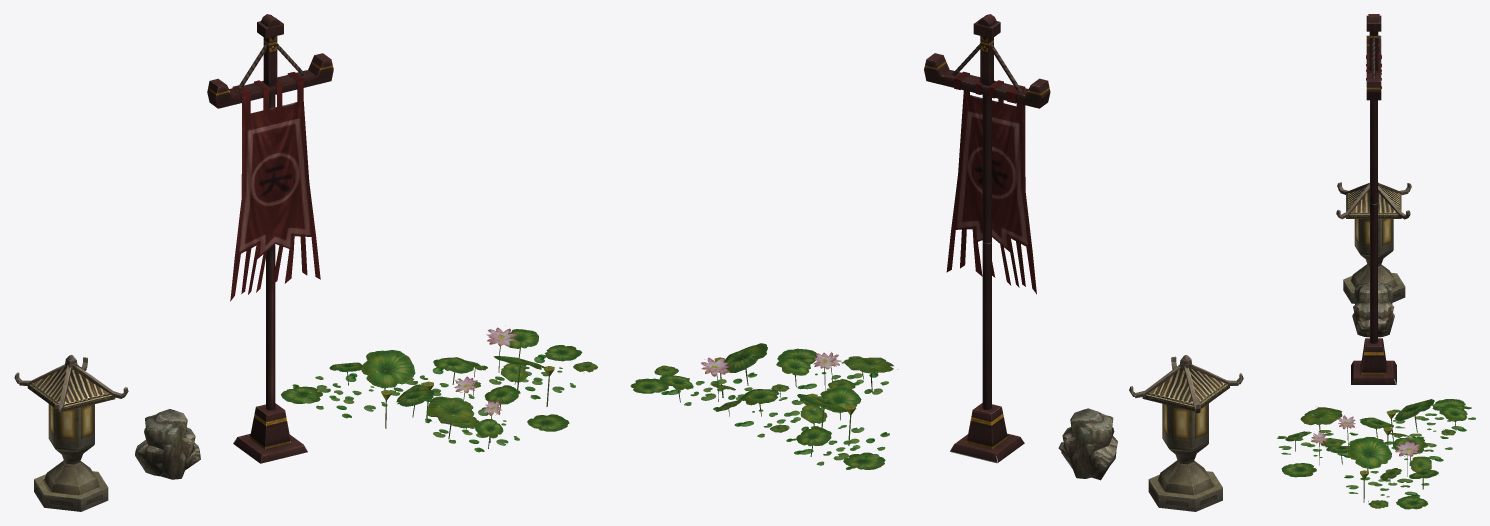
File: s7_loginobject.FBX
The picture shows the model from 3 angles, left to right: view 1: azimuth 30°, elevation 25°; view 2: azimuth 150°, elevation 25°; view 3: azimuth 270°, elevation 25°; orthographic projection. The views are drawn at different scales.
Parts seen in each view (by area): view 1: s7_pve_fight_pennants, s7_hehua, s7_ludeng, s7_shitou; view 2: s7_pve_fight_pennants, s7_hehua, s7_ludeng, s7_shitou; view 3: s7_hehua, s7_pve_fight_pennants, s7_ludeng, s7_shitou.
Boxes of the visible parts, x1,y1,x2,y2 form: s7_pve_fight_pennants: [207, 14, 333, 463]; s7_hehua: [281, 325, 597, 452]; s7_ludeng: [14, 355, 128, 511]; s7_shitou: [135, 409, 200, 479]; s7_pve_fight_pennants: [924, 14, 1050, 463]; s7_hehua: [630, 343, 898, 469]; s7_ludeng: [1129, 355, 1243, 511]; s7_shitou: [1058, 408, 1117, 480]; s7_hehua: [1277, 399, 1475, 509]; s7_pve_fight_pennants: [1351, 14, 1396, 384]; s7_ludeng: [1336, 182, 1411, 303]; s7_shitou: [1352, 282, 1394, 337].
Size of the model in its own units: 8.31 by 6.26 by 3.05.
